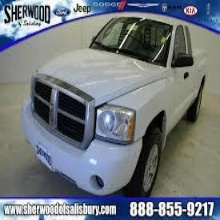no damage: (21, 13, 206, 198)
